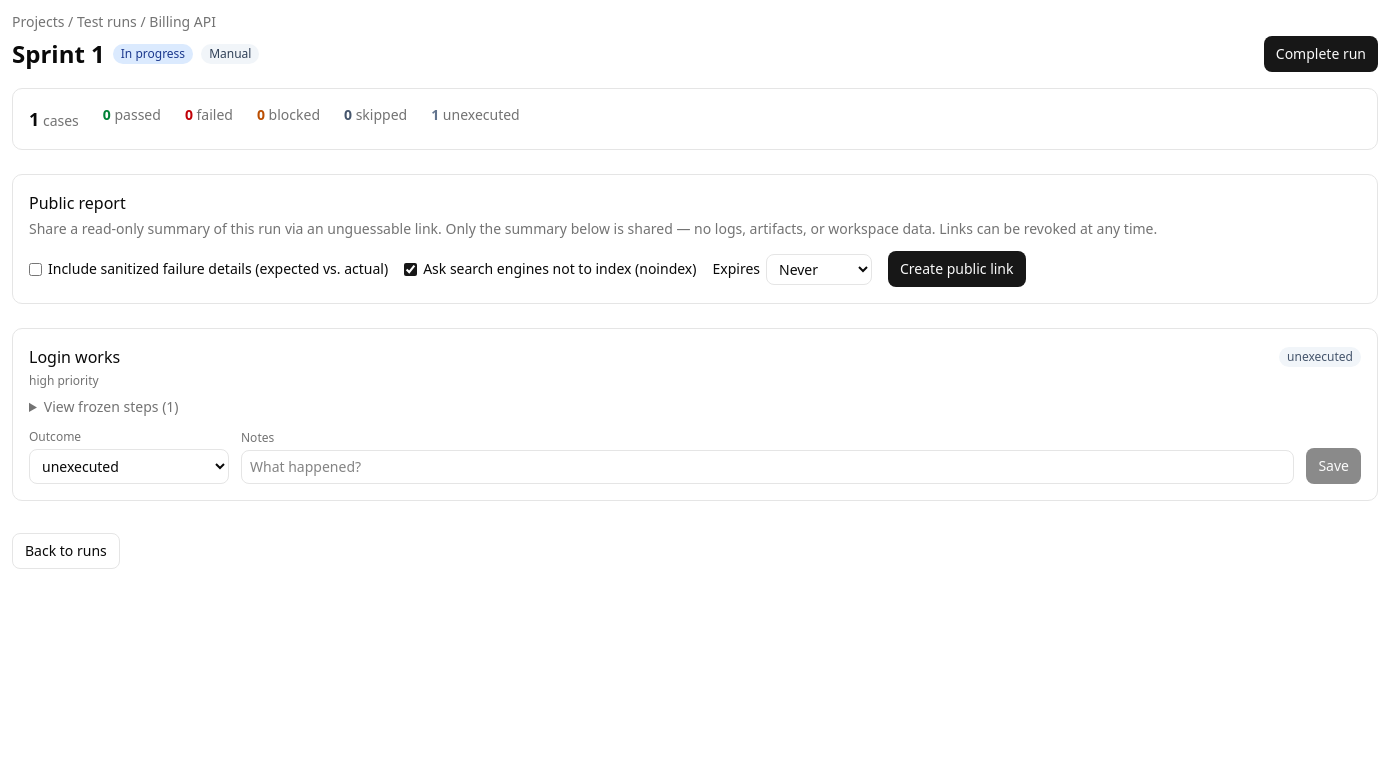
it: RunDetailManager › completes the run and locks result editing
The image size is (1390, 780).
Click the button "Complete run".
click(1321, 54)  # box [1264, 36, 1378, 72]
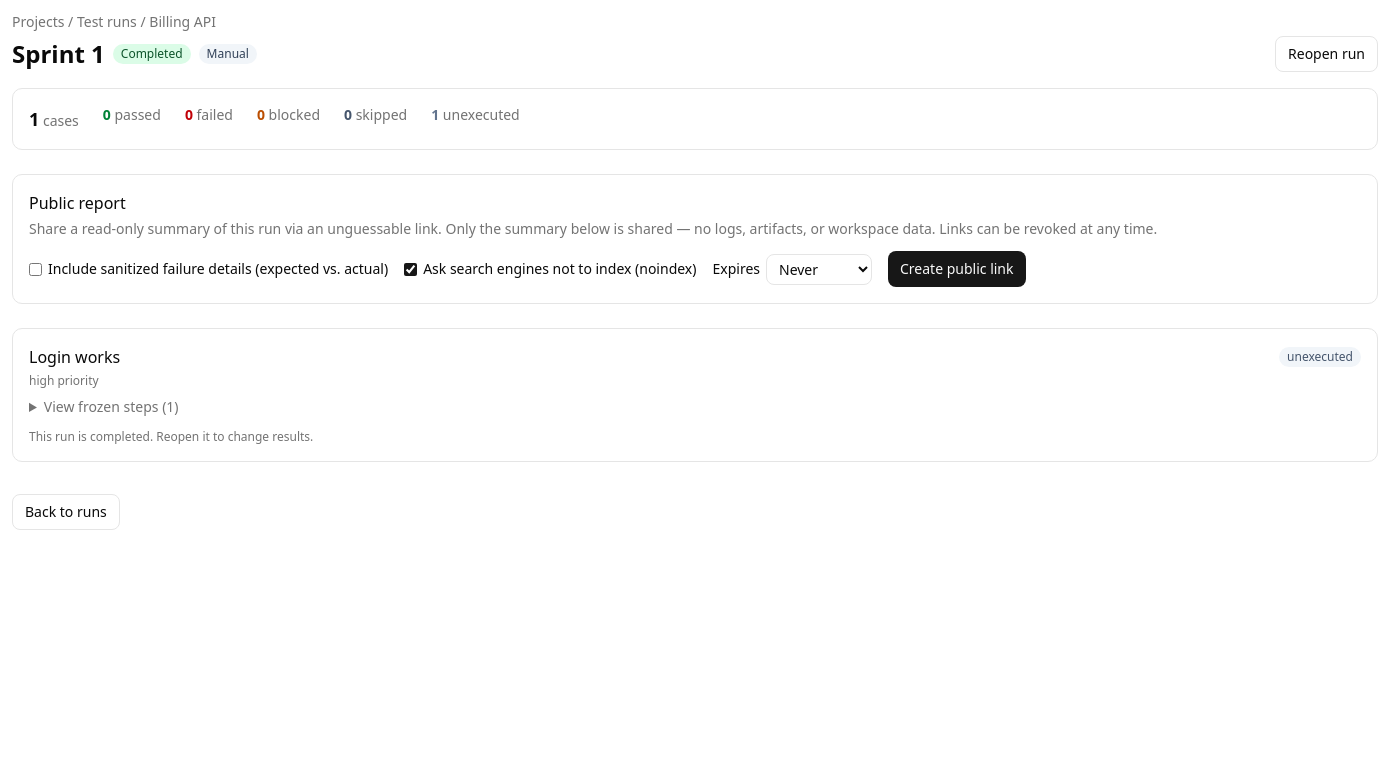
Result: the text "Completed" is shown at [113, 44, 191, 64]
Result: the text "This run is completed. Reopen it to change results." is shown at [29, 428, 313, 445]
Result: the label labelled "Outcome" is gone
